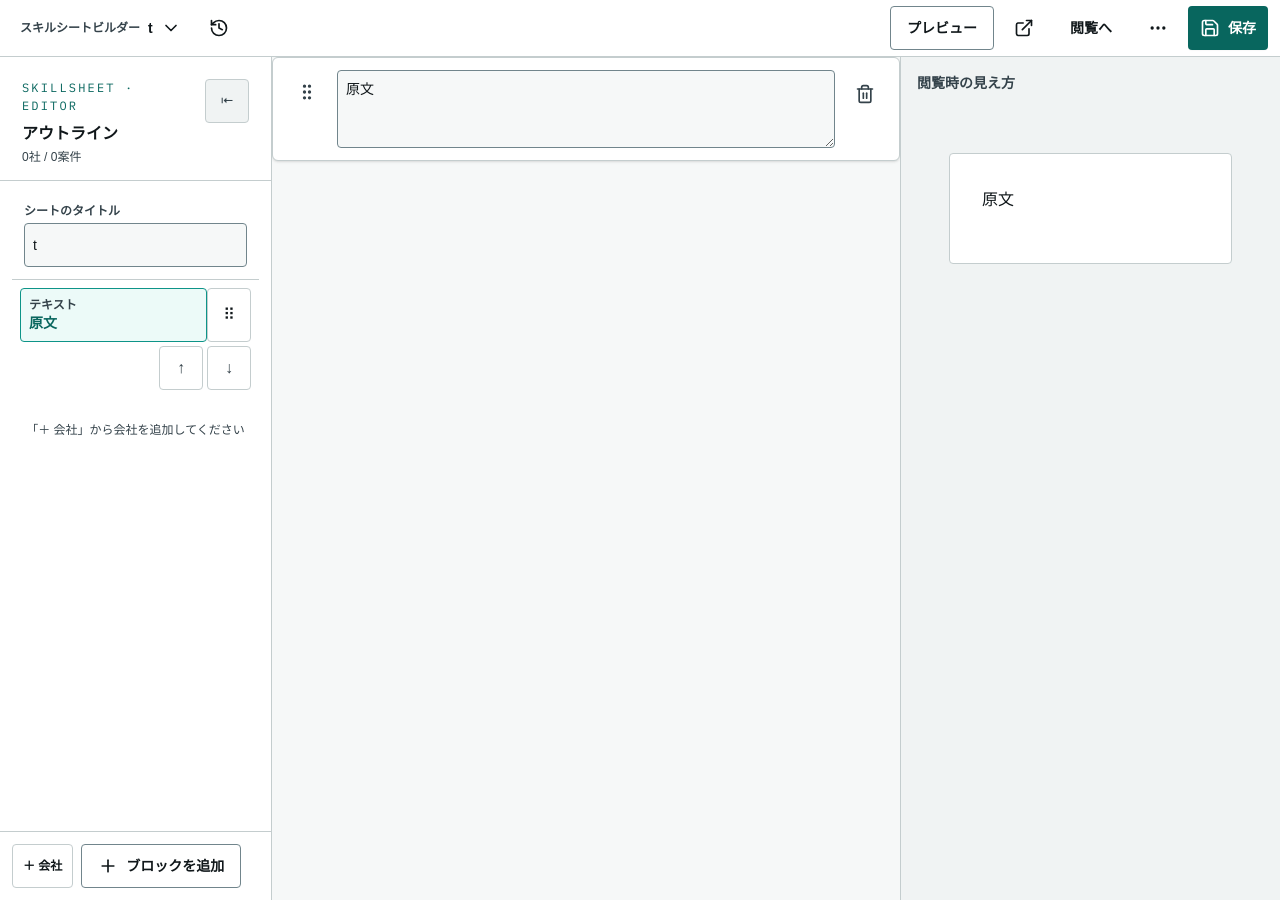
it: BuilderClient › 履歴前の保存確認を取り消すと原稿を保持して保存も履歴取得もしない
The image size is (1280, 900).
Replace the text in the text box with placeholder "Markdown を入力..." with "履歴前の下書き": (586, 109) [337,70,835,148]
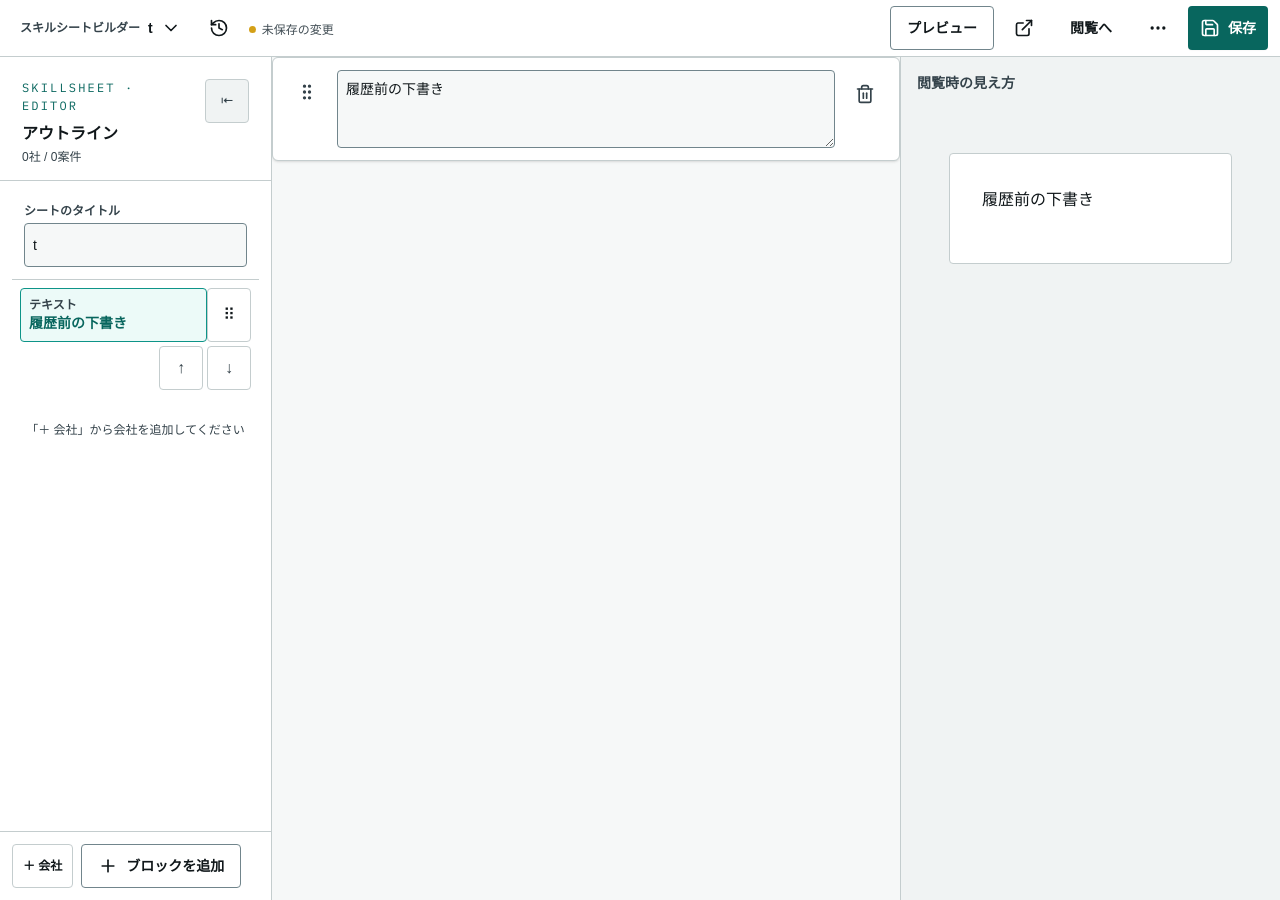
Click the button named "版の履歴を開く": (219, 28) [197,6,241,50]
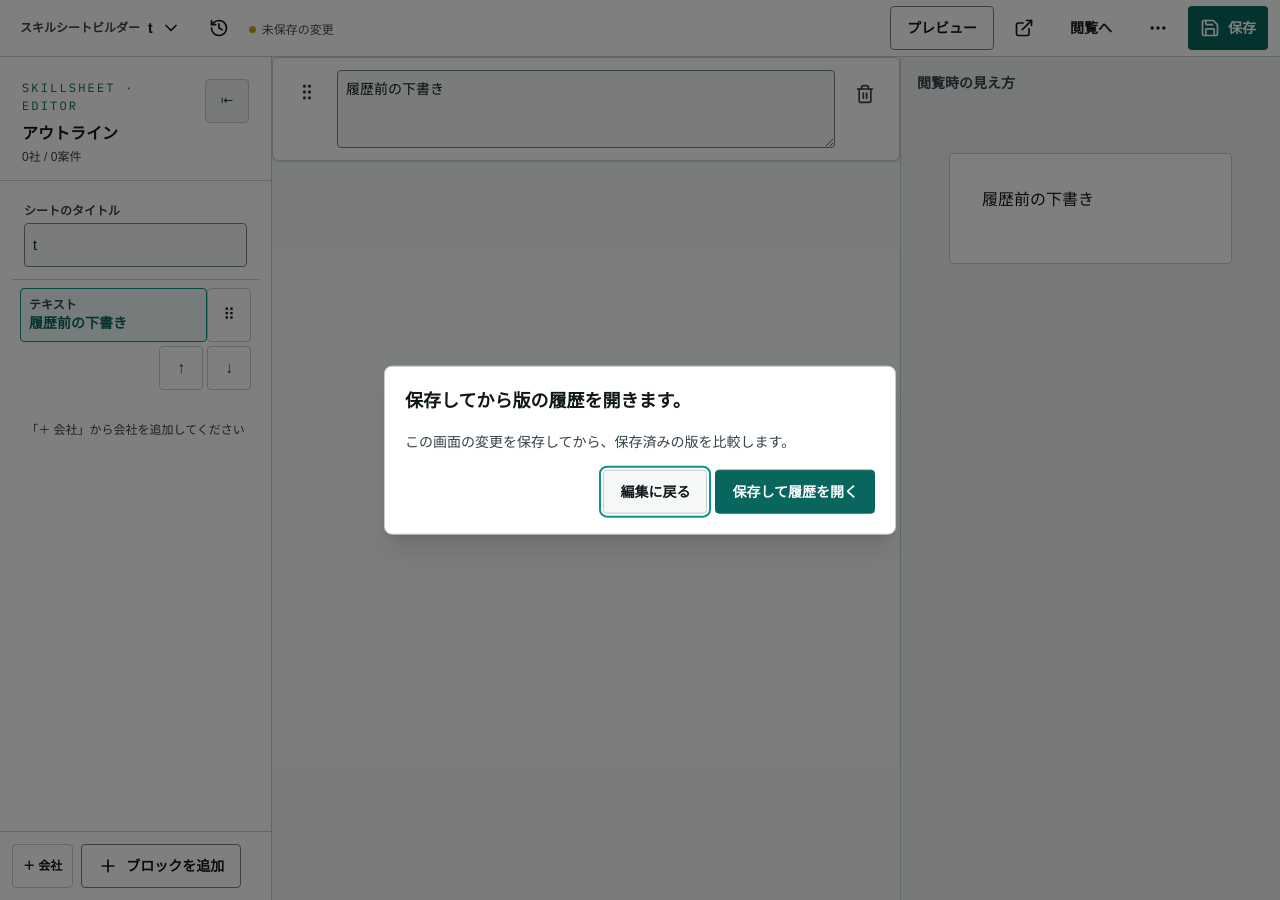
Click the button "編集に戻る": (655, 491) [603,469,707,513]
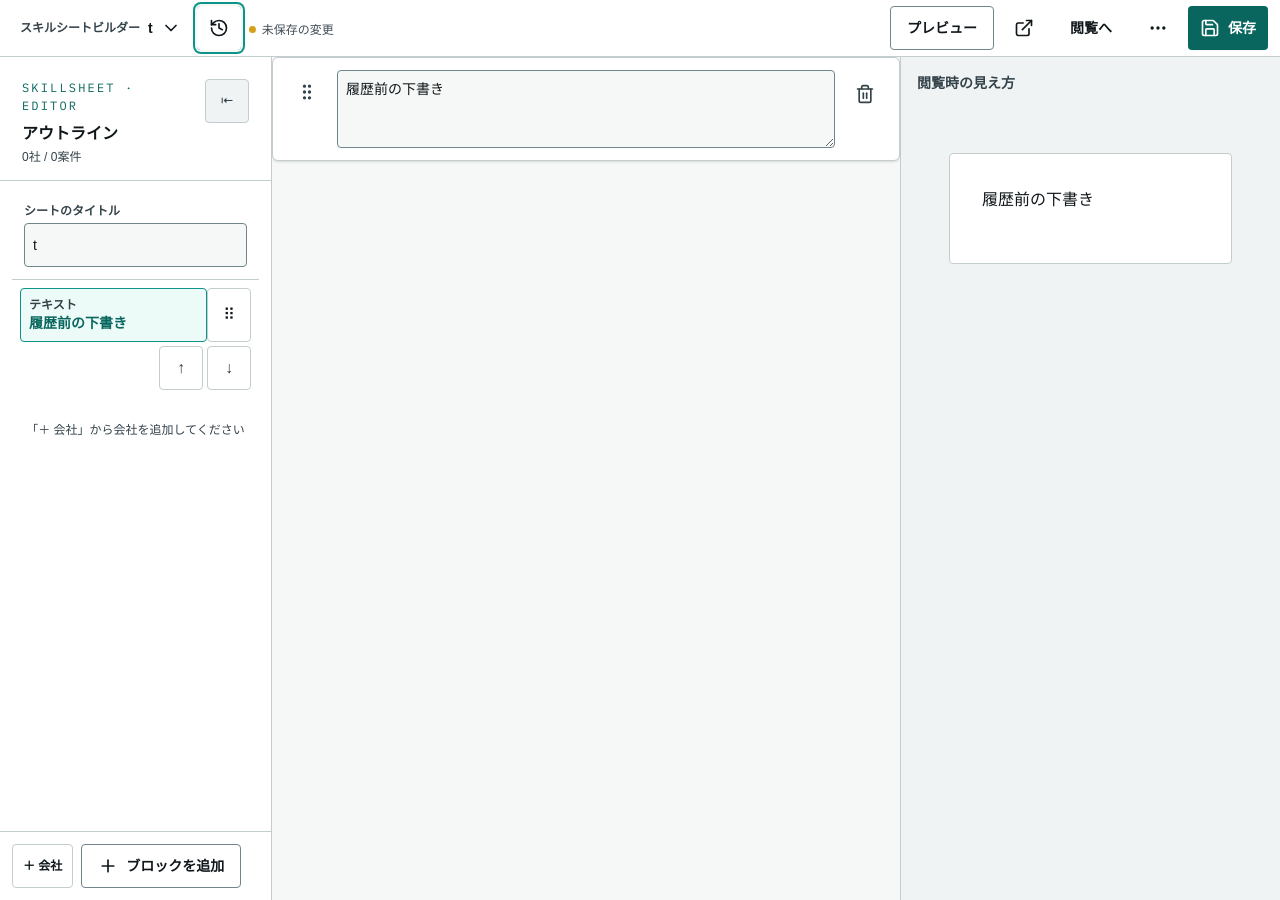
expect the heading "版の履歴" is gone: met
